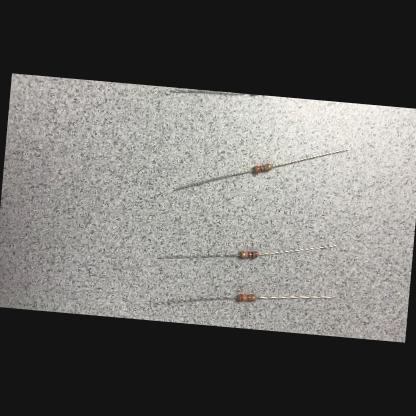resistor: (252, 162, 272, 175), (238, 250, 258, 260), (235, 294, 257, 303)
wire: (174, 164, 252, 198), (272, 142, 348, 172), (259, 238, 336, 262), (154, 290, 236, 312), (157, 247, 239, 266), (258, 290, 334, 306), (169, 88, 253, 100)
